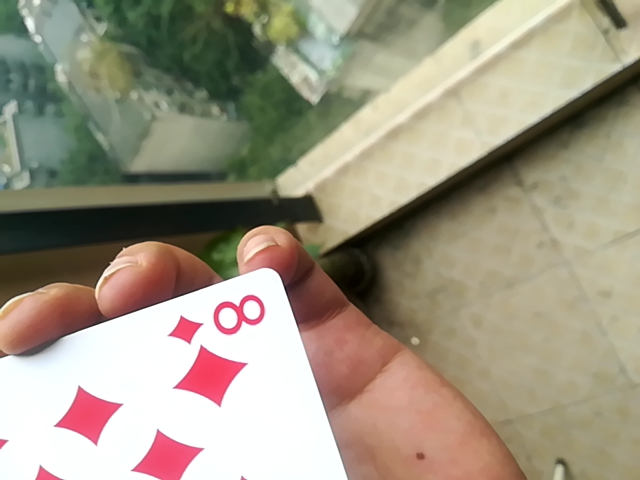fk 8: (4, 266, 377, 480)
